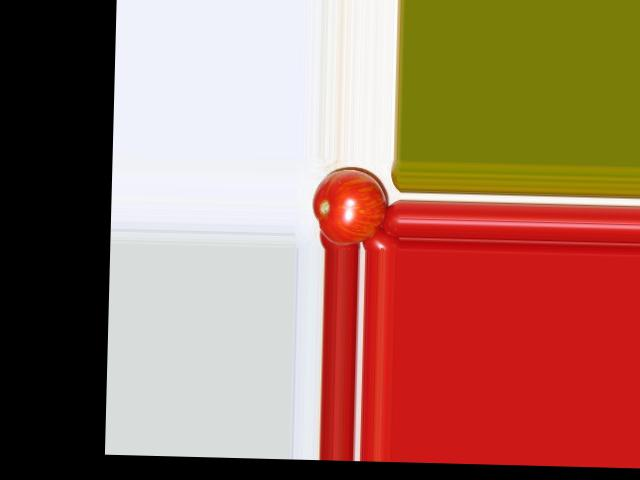tomato: (311, 168, 388, 246)
